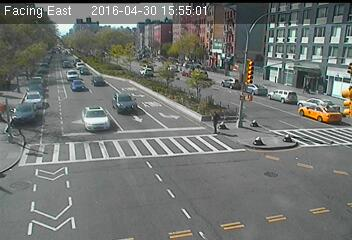neg: (265, 209, 284, 234), (94, 49, 110, 71), (170, 50, 185, 71), (31, 52, 45, 71), (170, 198, 184, 215), (154, 93, 167, 110), (139, 48, 150, 63), (204, 50, 215, 65), (119, 94, 130, 108), (81, 181, 91, 195), (83, 116, 92, 129), (309, 106, 318, 118), (151, 178, 160, 190), (329, 107, 336, 115)
pos: (205, 107, 226, 135)
